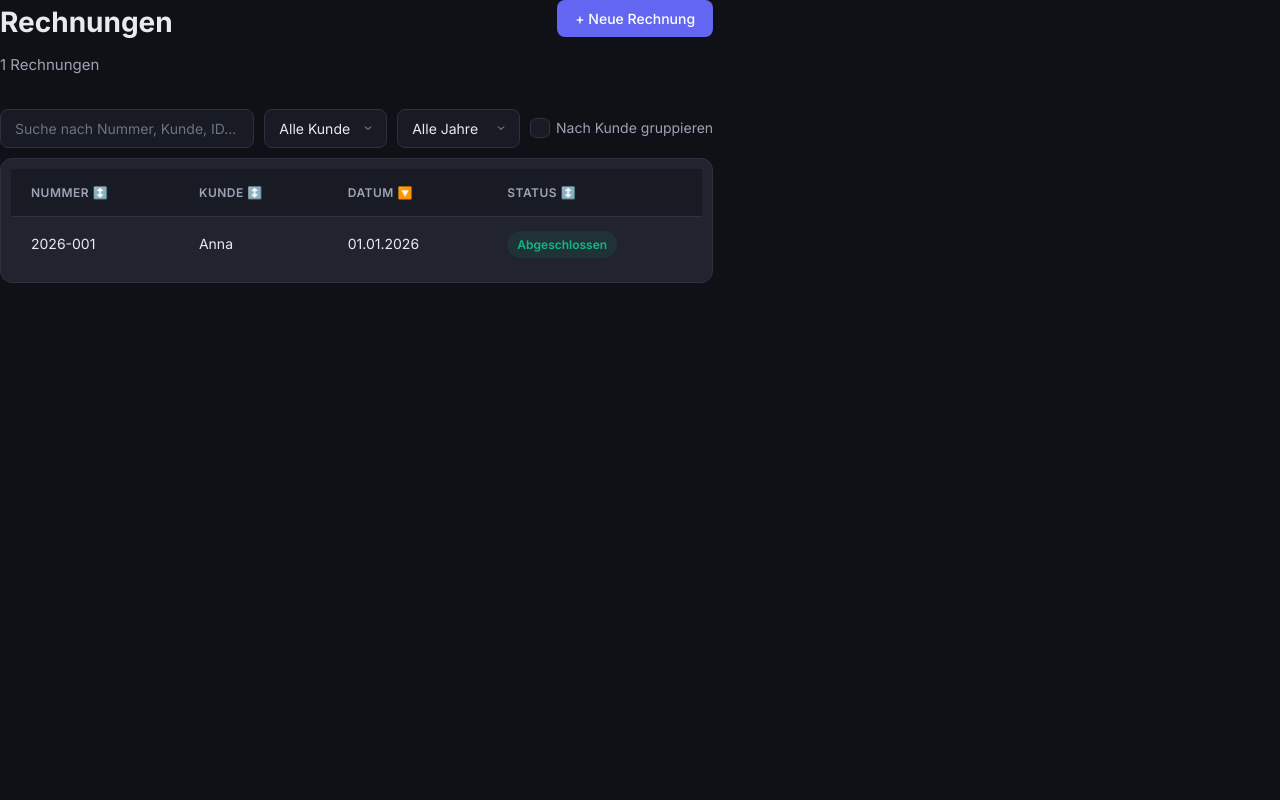
it: Finale Rechnung ist gesperrt (#283) › lässt den Lieferschein unverändert löschbar, auch wenn er final ist
Click the text "2026-001": {"x": 95, "y": 244} [11,216,179,272]
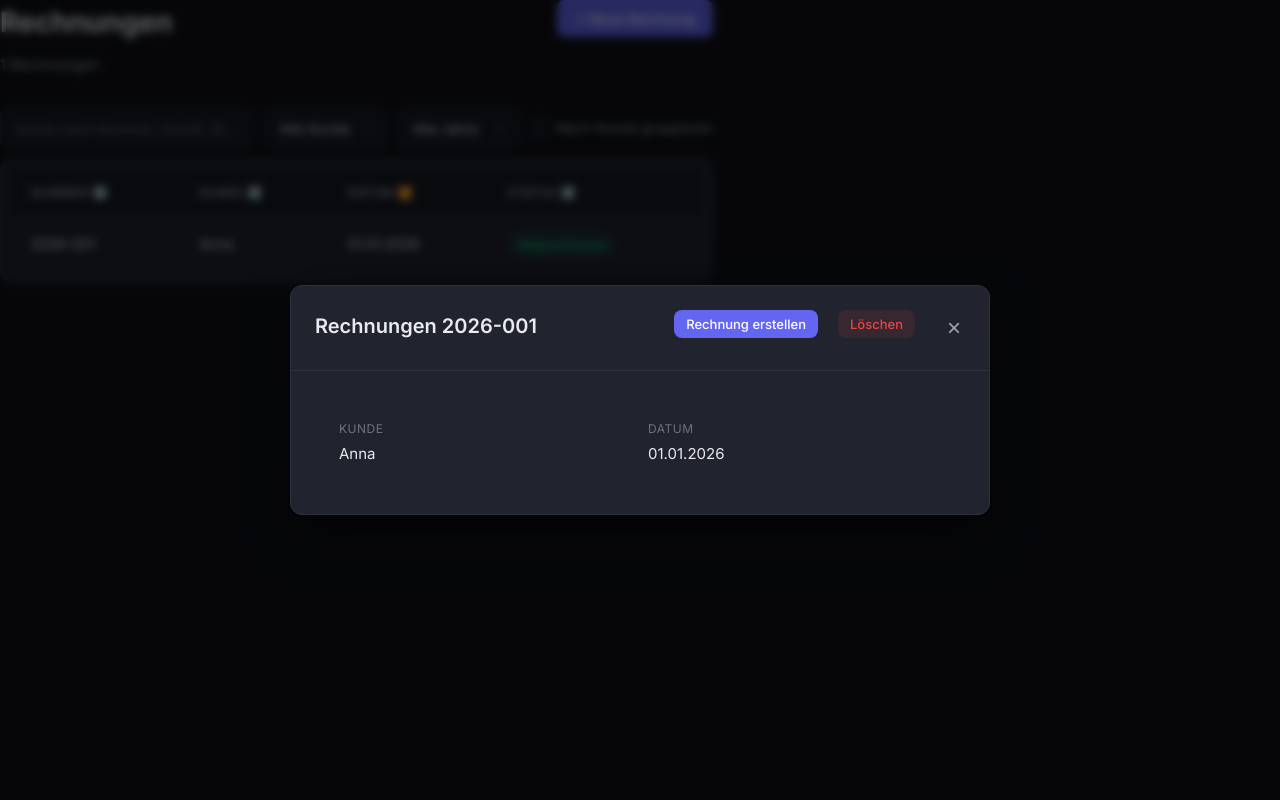
Expected: the text "Kunde" is shown, [339,421,383,436]
Expected: the button "Löschen" is shown, [838,310,915,338]
